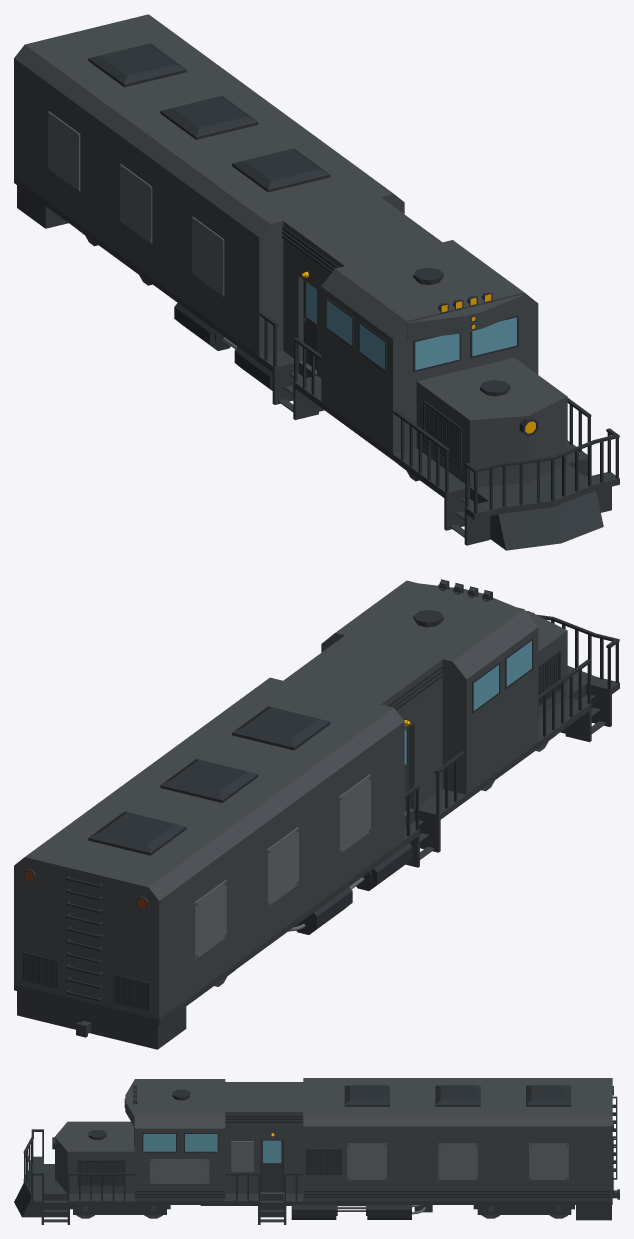
Rendered from Train_01_C2.fbx.
3 views of the same model, one above another, from view 1: azimuth 30°, elevation 25°; view 2: azimuth 150°, elevation 25°; view 3: azimuth 270°, elevation 25° (orthographic). The views are drawn at different scales.
Visible parts, largest first — view 1: Train_01_C2; view 2: Train_01_C2; view 3: Train_01_C2.
Boxes of the visible parts, left/top/right/bottom form: Train_01_C2: left=14, top=14, right=619, bottom=550; Train_01_C2: left=14, top=579, right=619, bottom=1049; Train_01_C2: left=14, top=1078, right=619, bottom=1224.
Bounding box in the file's own units: 359 × 421 × 2003.
